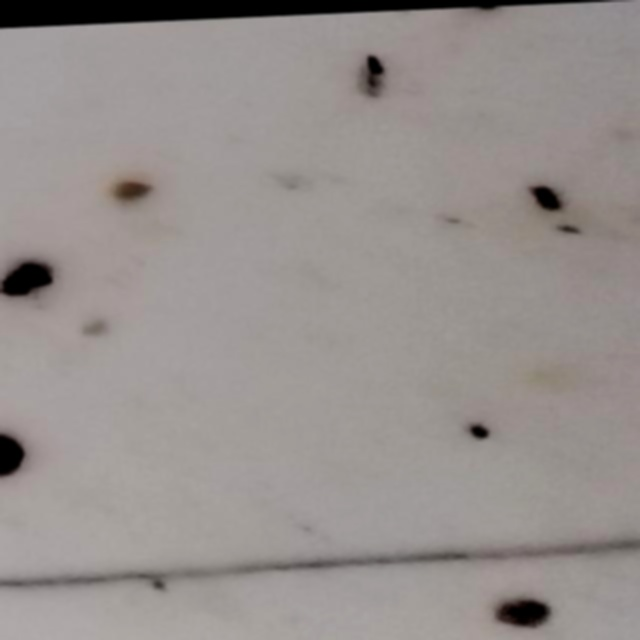varroa: (489, 596, 555, 635)
